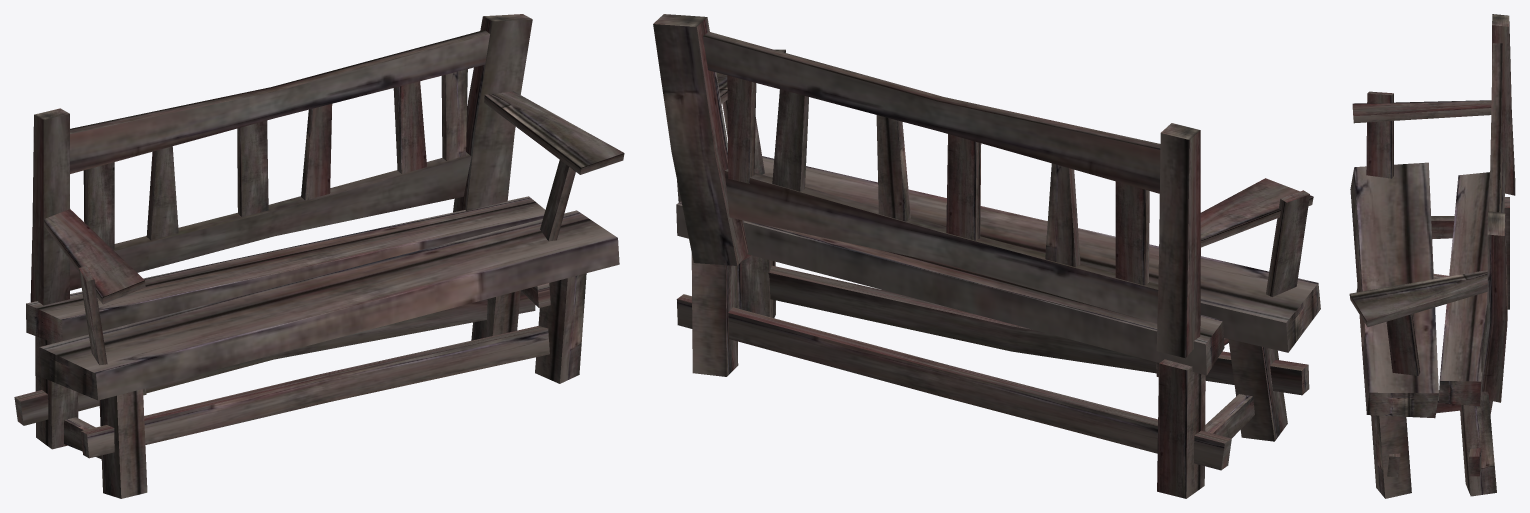
File: swamp_bench.fbx
3 views of the same model, side by side, from view 1: azimuth 30°, elevation 25°; view 2: azimuth 150°, elevation 25°; view 3: azimuth 270°, elevation 25° (orthographic). The views are drawn at different scales.
Parts seen in each view (by area): view 1: bench_seat_front, bench_seat_rear, bench_backrest_top, bench_crossbeam_front, bench_backrest_bottom, bench_backrest_left, bench_backrest_right, bench_crossbeam_rear, bench_armrest_left, bench_leg02, bench_armrest_right, bench_leg03 (+10 smaller); view 2: bench_backrest_top, bench_seat_rear, bench_backrest_bottom, bench_crossbeam_rear, bench_seat_front, bench_backrest_left, bench_crossbeam_front, bench_backrest_right, bench_leg01, bench_leg04, bench_leg02, bench_armrest_right (+9 smaller); view 3: bench_seat_front, bench_seat_rear, bench_armrest_left, bench_backrest_left, bench_leg03, bench_leg04, bench_armrest_right, bench_backrest_right, bench_backrest_top, bench_armrest_right_post, bench_armrest_left_post, bench_seat_support_right (+5 smaller).
Part boxes in pixels (x1,y1,x2,y2): bench_seat_front: (39, 210, 619, 400); bench_seat_rear: (26, 196, 545, 343); bench_backrest_top: (70, 30, 489, 173); bench_crossbeam_front: (81, 326, 549, 458); bench_backrest_bottom: (70, 152, 471, 290); bench_backrest_left: (453, 14, 532, 212); bench_backrest_right: (30, 108, 69, 305); bench_crossbeam_rear: (14, 290, 535, 425); bench_armrest_left: (484, 91, 624, 174); bench_leg02: (99, 389, 147, 498); bench_armrest_right: (44, 209, 145, 304); bench_leg03: (535, 273, 586, 383); bench_backrest_top: (703, 31, 1160, 193); bench_seat_rear: (676, 201, 1224, 375); bench_backrest_bottom: (724, 169, 1158, 323); bench_crossbeam_rear: (676, 294, 1231, 470); bench_seat_front: (677, 156, 1320, 352); bench_backrest_left: (653, 14, 748, 265); bench_crossbeam_front: (768, 265, 1309, 395); bench_backrest_right: (1156, 123, 1200, 358); bench_leg01: (1157, 359, 1205, 498); bench_leg04: (691, 253, 738, 376); bench_leg02: (1228, 339, 1287, 441); bench_armrest_right: (1200, 178, 1313, 247); bench_seat_front: (1350, 162, 1438, 418); bench_seat_rear: (1439, 172, 1489, 406); bench_armrest_left: (1349, 270, 1487, 326); bench_backrest_left: (1481, 211, 1507, 402); bench_leg03: (1371, 415, 1411, 498); bench_leg04: (1460, 391, 1496, 496); bench_armrest_right: (1352, 100, 1491, 123); bench_backrest_right: (1492, 14, 1515, 195); bench_backrest_top: (1489, 43, 1502, 212); bench_armrest_right_post: (1366, 91, 1393, 178); bench_armrest_left_post: (1386, 314, 1420, 375); bench_seat_support_right: (1431, 216, 1454, 238).
Bounding box in the file's own units: 665 × 381 × 200.
Materials: 1 (1 with a texture image).
